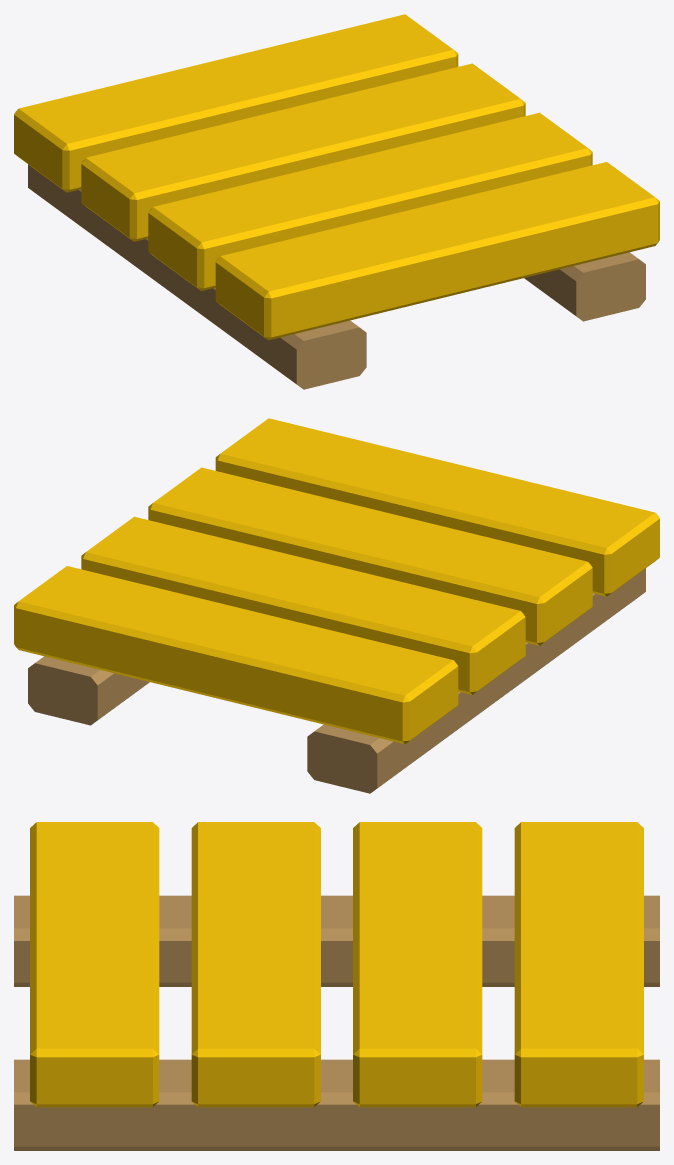
The model's file is HJD_FP_bridge00.fbx.
The picture shows the model from 3 angles, top to bottom: view 1: azimuth 30°, elevation 25°; view 2: azimuth 150°, elevation 25°; view 3: azimuth 270°, elevation 25°; orthographic projection. The views are drawn at different scales.
Parts seen in each view (by area): view 1: transform_unity_scale17; view 2: transform_unity_scale17; view 3: transform_unity_scale17.
Boxes of the visible parts, <box> form: transform_unity_scale17: <box>14,14,659,389</box>; transform_unity_scale17: <box>14,418,659,793</box>; transform_unity_scale17: <box>14,822,659,1150</box>.
Bounding box in the file's own units: 85 × 20 × 100.
